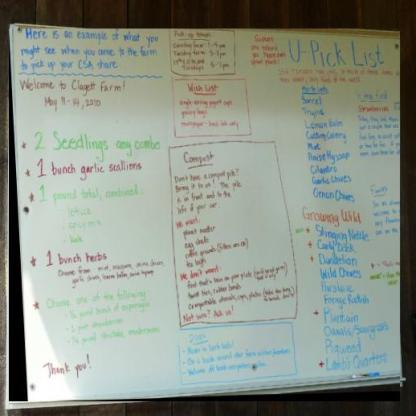Handwritten text: (47, 127, 164, 159), (182, 285, 297, 312), (22, 25, 159, 47), (285, 37, 387, 66), (46, 284, 151, 311), (55, 257, 168, 278), (46, 158, 147, 181), (50, 182, 141, 206), (275, 66, 394, 84), (19, 44, 161, 59), (13, 77, 121, 95), (67, 299, 154, 321), (68, 268, 156, 289), (14, 57, 122, 74), (184, 266, 255, 291), (42, 358, 85, 387), (297, 204, 360, 223), (178, 304, 235, 325), (323, 322, 389, 340), (68, 316, 126, 335), (184, 282, 244, 300), (171, 179, 243, 194), (324, 355, 393, 370), (179, 261, 223, 283), (173, 169, 237, 184), (175, 198, 222, 218), (178, 220, 220, 242), (315, 223, 368, 240), (175, 189, 233, 204), (308, 184, 359, 200), (176, 118, 241, 130), (57, 249, 110, 263), (319, 307, 362, 324), (323, 339, 368, 355), (178, 97, 241, 108), (316, 251, 362, 266), (370, 216, 401, 238), (319, 266, 367, 280), (179, 148, 222, 163), (309, 174, 358, 187), (314, 238, 357, 252), (183, 243, 218, 260), (318, 294, 372, 305), (174, 211, 202, 232), (305, 152, 351, 164), (304, 130, 349, 142), (182, 253, 210, 272), (315, 281, 359, 293), (180, 234, 211, 251), (172, 58, 207, 73), (297, 105, 330, 120), (185, 80, 222, 93), (65, 219, 108, 230), (61, 205, 101, 216), (245, 50, 286, 60), (303, 119, 344, 129), (170, 47, 205, 58), (303, 164, 338, 175), (181, 107, 215, 118), (171, 30, 211, 39), (168, 39, 204, 49), (248, 43, 281, 53), (368, 197, 398, 208), (297, 84, 332, 93), (40, 95, 59, 111), (368, 181, 388, 196), (69, 232, 92, 245), (298, 94, 327, 104), (251, 33, 276, 43), (251, 58, 278, 67), (368, 209, 400, 215), (302, 141, 321, 151)
Whiteboard: (10, 16, 405, 401)
